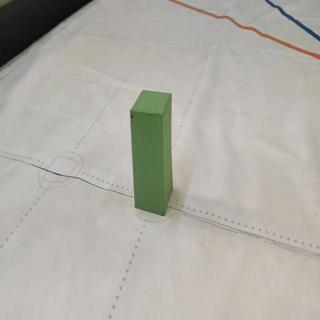greenbox: (129, 88, 173, 216)
